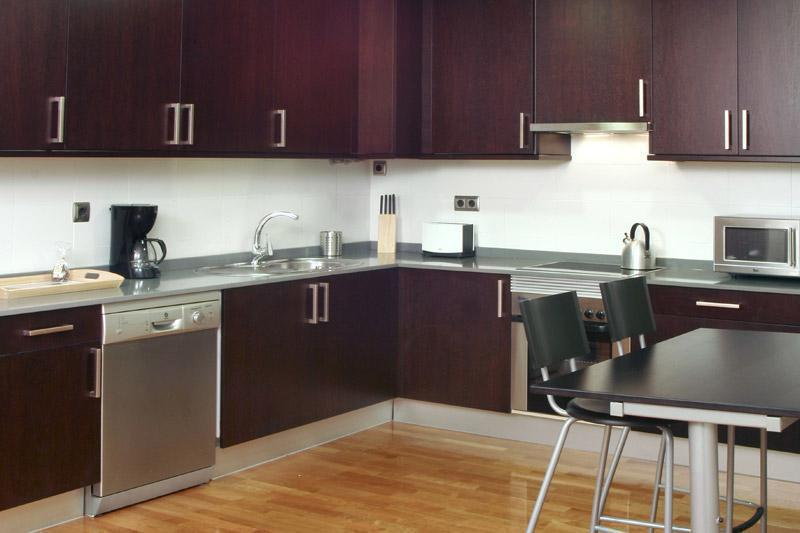Electrodomestico: (107, 296, 218, 502), (508, 267, 634, 432)
Lavaplatos: (217, 202, 377, 286)
